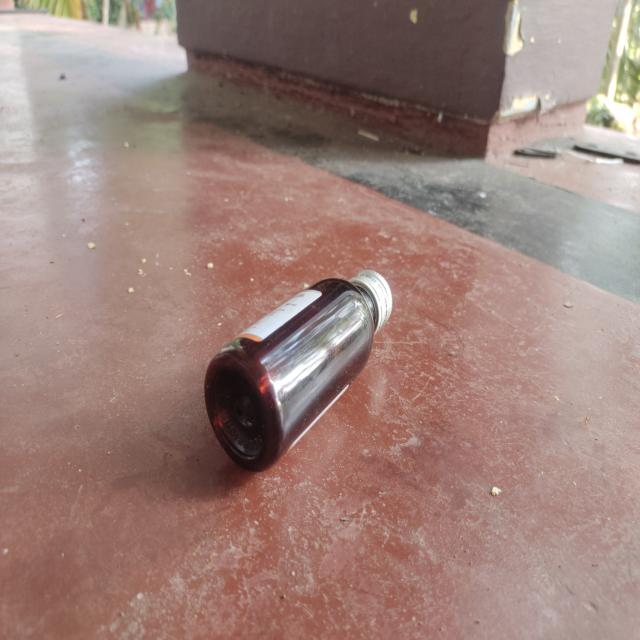plastic: (202, 268, 394, 475)
